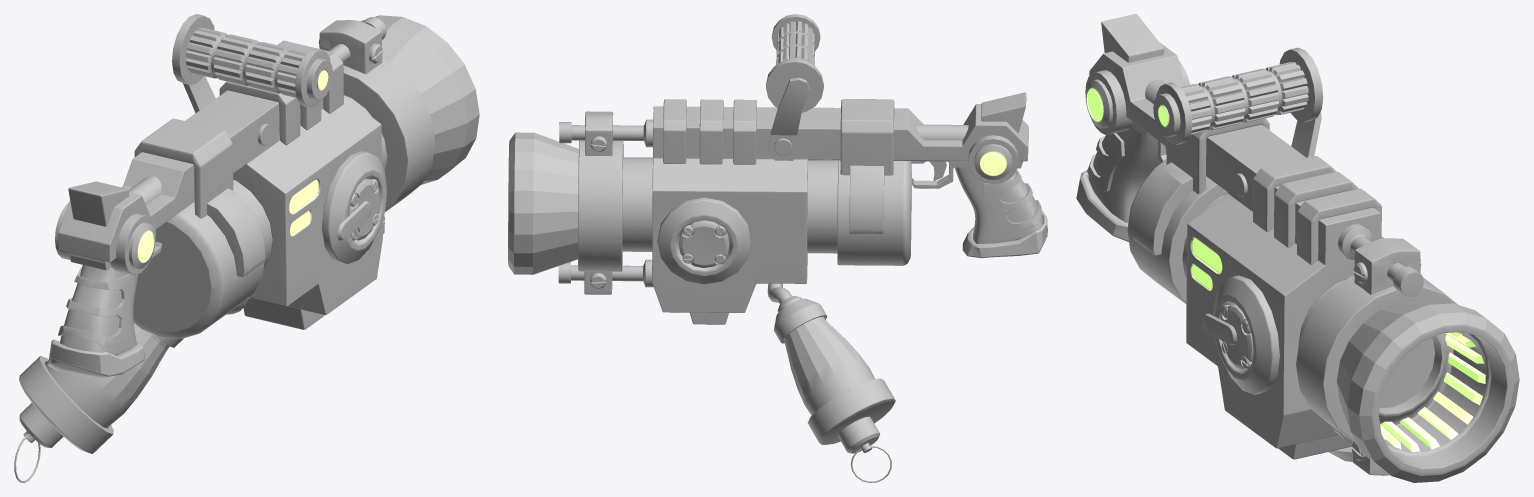
File: watergun.fbx
3 renders of one model, left to right at view 1: azimuth 30°, elevation 25°; view 2: azimuth 150°, elevation 25°; view 3: azimuth 270°, elevation 25°, orthographic. The views are drawn at different scales.
Visible parts, largest first — view 1: polySurface96; view 2: polySurface96; view 3: polySurface96.
Part boxes in pixels (x1=…): polySurface96: x1=14, y1=14, x2=479, y2=482; polySurface96: x1=508, y1=14, x2=1047, y2=482; polySurface96: x1=1076, y1=14, x2=1519, y2=482.
Size of the model in its own units: 8.75 by 7.13 by 5.94.
